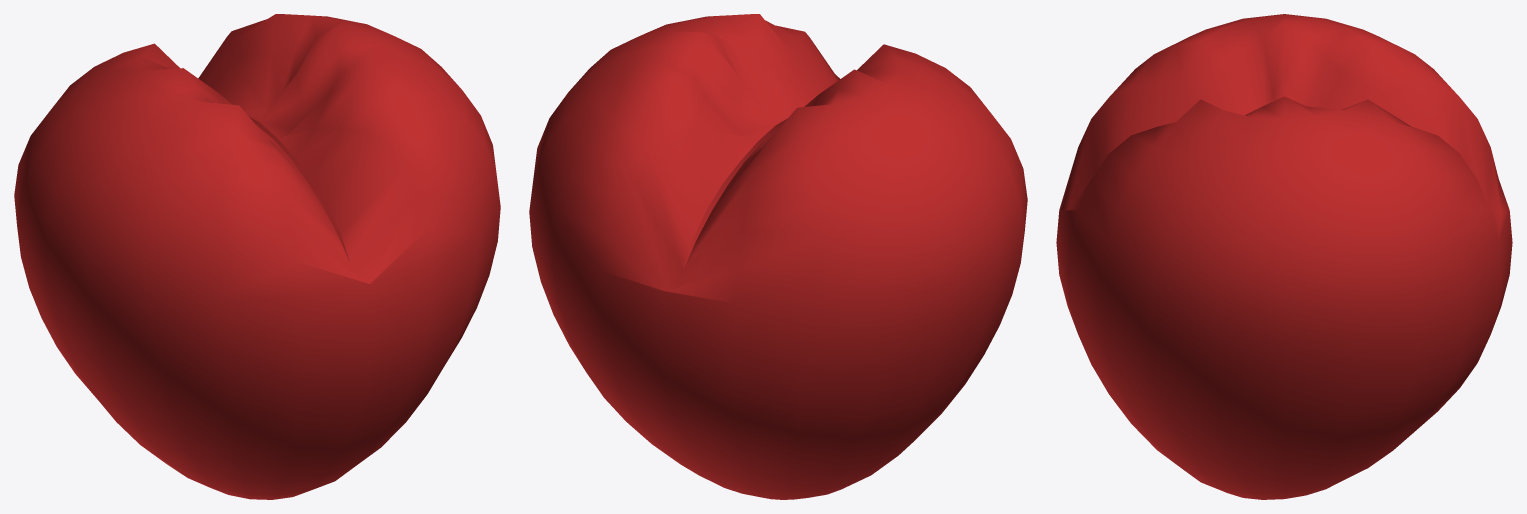
The picture shows the model from 3 angles, left to right: view 1: azimuth 30°, elevation 25°; view 2: azimuth 150°, elevation 25°; view 3: azimuth 270°, elevation 25°; orthographic projection. The views are drawn at different scales.
Visible parts, largest first — view 1: 1234; view 2: 1234; view 3: 1234.
Boxes of the visible parts, x1,y1,x2,y2 form: 1234: (14, 14, 500, 499); 1234: (529, 14, 1027, 499); 1234: (1056, 14, 1512, 499).
Size of the model in its own units: 2.15 by 2.07 by 2.
